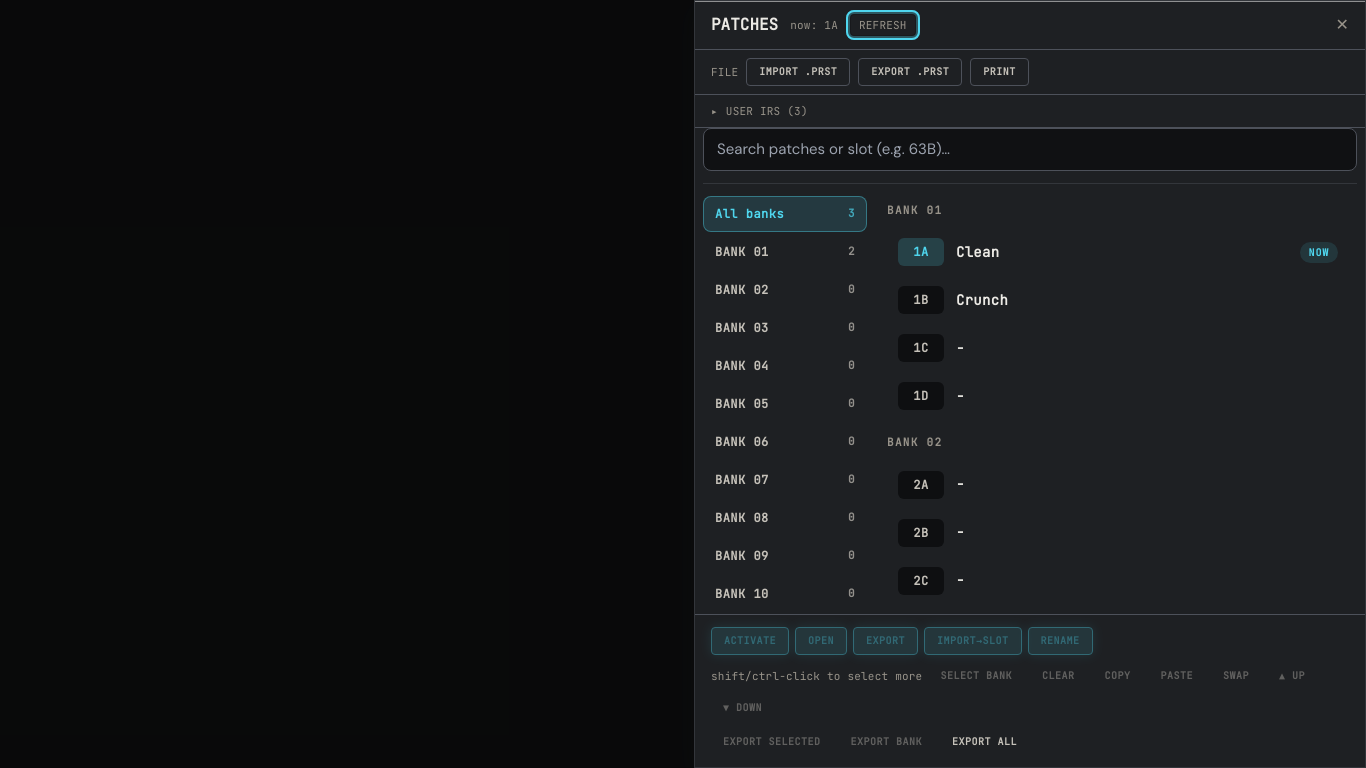
Test: PatchManagerSheet › lists User-IR slots behind a collapsible toggle when connected
Expected: the text "My 4x12" is not shown
Click the button "▸ USER IRS (3)": (759, 111) [711,103,808,119]
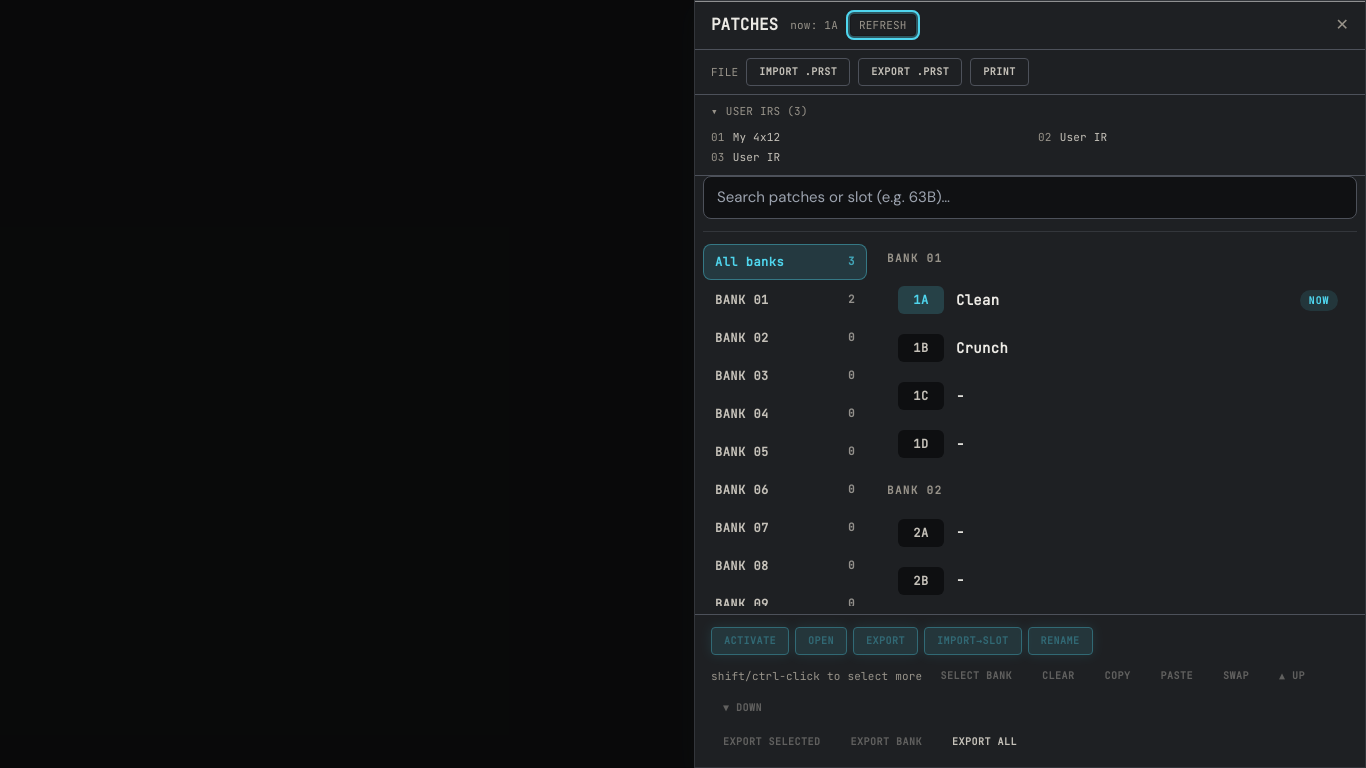
Expected: the text "My 4x12" is shown, [733,129,780,145]
Expected: the text "User IR" is shown 2 times, [1060,129,1107,145]; [733,149,780,165]
